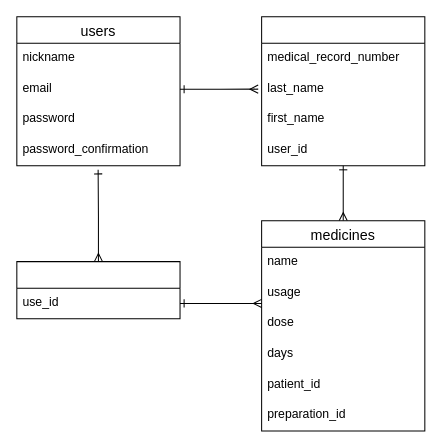
This 442x448 diagram has some shape labels left out. Here are the shapes that lost their labels. From the top down, the box of each, then its label:
(261, 16, 425, 166): patients
(16, 261, 180, 319): preparations
